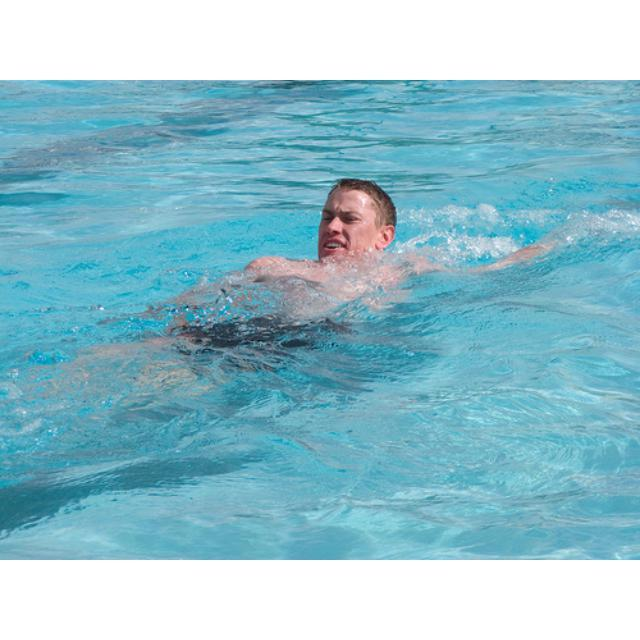human: (193, 175, 527, 373)
